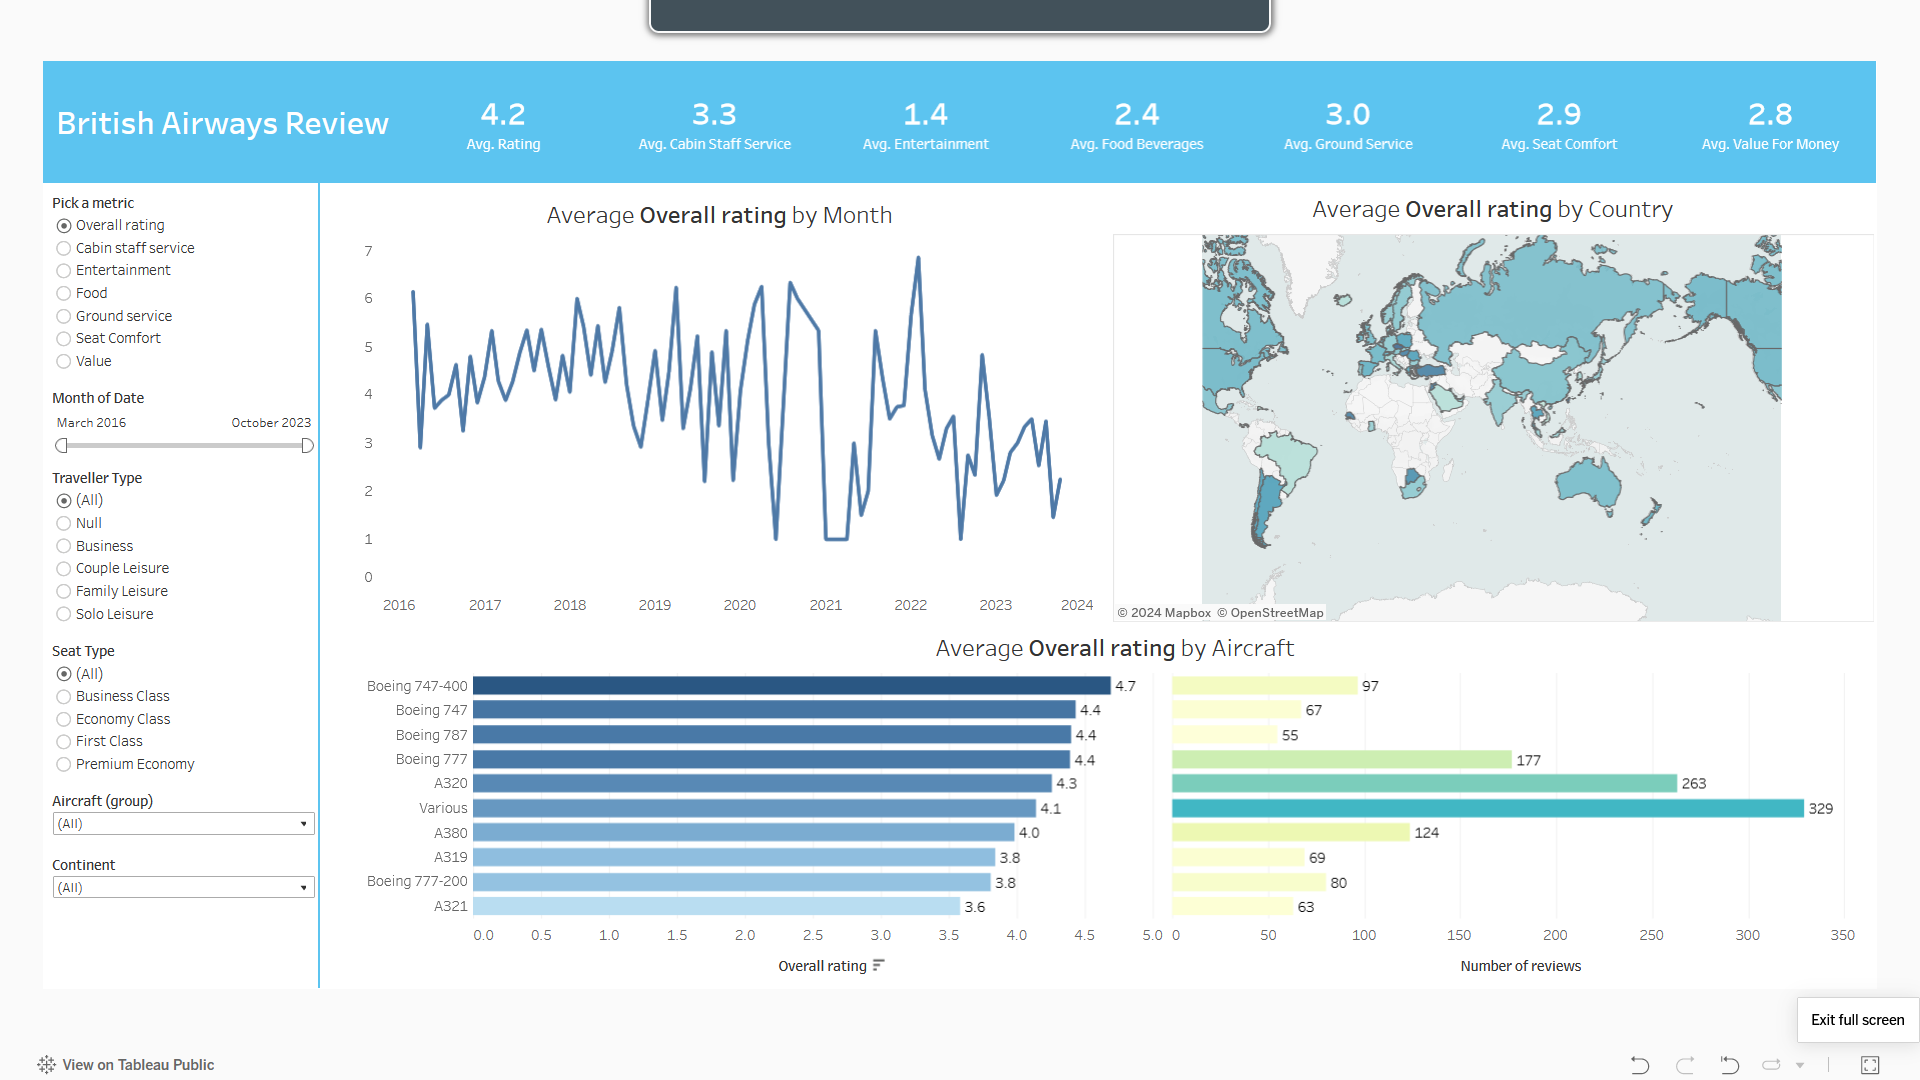

The page's visual inventory and layout, read from the dashboard file:
{"tool":"tableau","page":{"name":"Dashboard 1","canvas":[1620,820],"ordinal":0},"visuals":[{"type":"text","box":[0,0,316.5,107.9]},{"type":"worksheet","title":"Summary","mark":"Automatic","box":[314.4,0,1304.5,107.9]},{"type":"blank","box":[243,108,2,711]},{"type":"worksheet","title":"Sheet 1","mark":"Automatic","box":[945,110,672,386]},{"type":"parameter","param":"[Parameters].[Parameter 1]","box":[4.3,112.2,240.9,181.3]},{"type":"worksheet","title":"Month","mark":"Automatic","rows":["Calculation_197595459224223744"],"cols":["date"],"box":[267,115,661,380]},{"type":"filter","title":"Sheet 1","param":"[federated.078byqw0h55yvc1bu7vvp0xqpey7].[tmn:date:qk]","box":[4.3,293.5,240.9,73]},{"type":"filter","title":"Sheet 1","param":"[federated.078byqw0h55yvc1bu7vvp0xqpey7].[none:traveller_type:nk]","box":[4.3,366.5,240.9,174]},{"type":"worksheet","title":"Aircraft","mark":"Automatic","cols":["Calculation_197595459224223744","ba_reviews.csv_5AA1E0BFBDA74D418A4BA35F49D3B094"],"box":[280,498,1334,316]},{"type":"filter","title":"Sheet 1","param":"[federated.078byqw0h55yvc1bu7vvp0xqpey7].[none:seat_type:nk]","box":[4.3,540.5,240.9,151]},{"type":"filter","title":"Sheet 1","param":"[federated.078byqw0h55yvc1bu7vvp0xqpey7].[Aircraft (group)]","box":[4.3,691.5,240.9,61]},{"type":"filter","title":"Sheet 1","param":"[federated.078byqw0h55yvc1bu7vvp0xqpey7].[none:Continent:nk]","box":[4.3,752.5,240.9,61]}]}

Visuals, with their boxes on the page's 1620x820 design canvas (x1, y1, x2, y2). These are canvas units, not pixel positions in the 1920x1080 screenshot, which may show the page scaled, cropped or inside an application window:
text: 0 0 316 108
"Summary" worksheet: 314 0 1619 108
blank: 243 108 245 819
"Sheet 1" worksheet: 945 110 1617 496
parameter: 4 112 245 294
"Month" worksheet: 267 115 928 495
"Sheet 1" filter: 4 294 245 366
"Sheet 1" filter: 4 366 245 540
"Aircraft" worksheet: 280 498 1614 814
"Sheet 1" filter: 4 540 245 692
"Sheet 1" filter: 4 692 245 752
"Sheet 1" filter: 4 752 245 814
